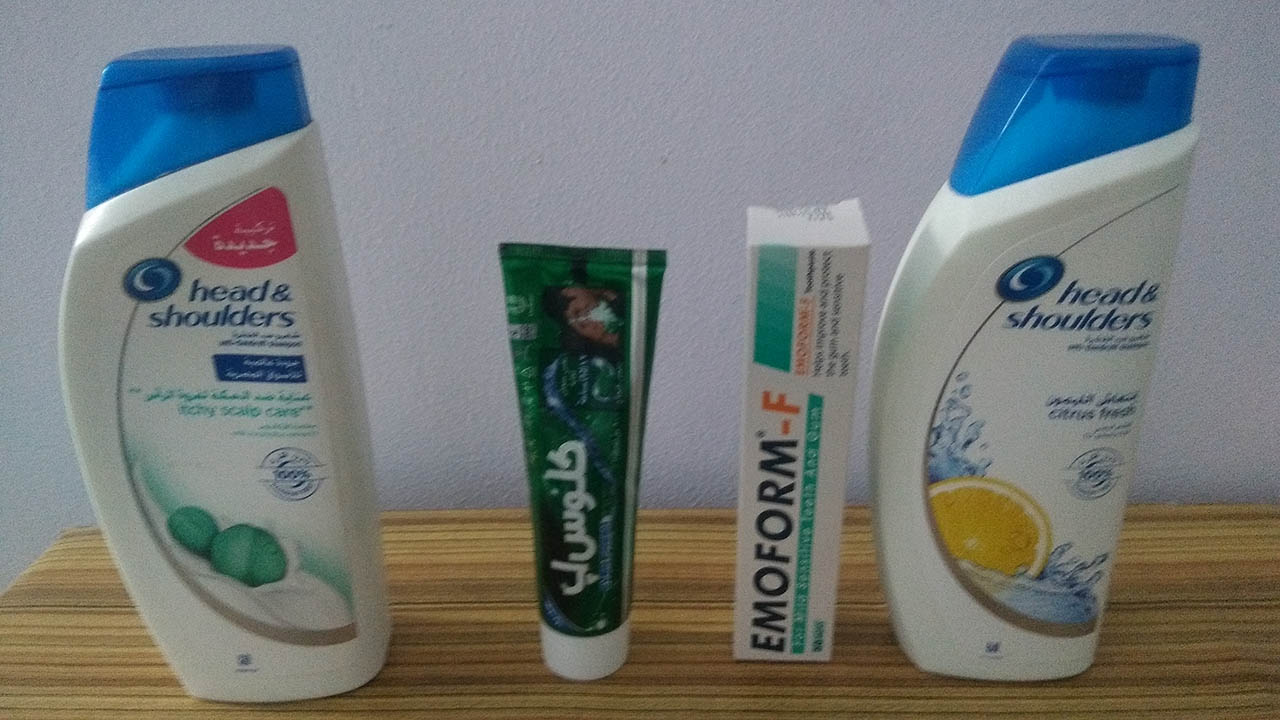Toothpaste-Closeup 3.04$: (487, 216, 654, 693)
Toothpaste-F 1.5$: (738, 197, 861, 669)
shampoo-Lemon 3.5$: (877, 40, 1210, 679)
shampoo-green 4.5$: (82, 45, 387, 681)
